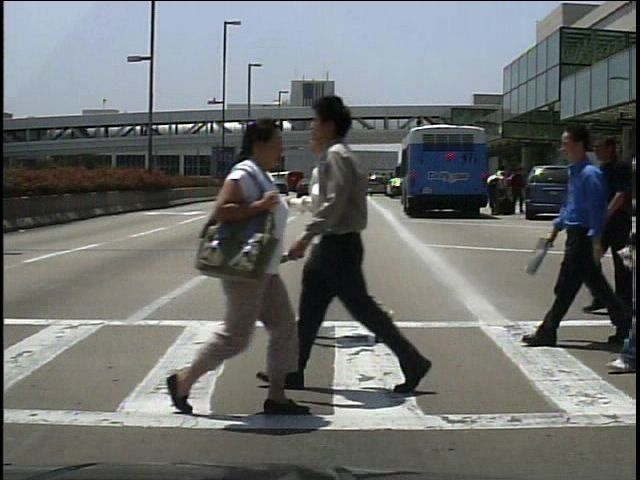person: (296, 91, 440, 405), (173, 115, 305, 419), (279, 118, 404, 354), (531, 114, 629, 348), (582, 168, 602, 218), (486, 162, 504, 214), (508, 166, 526, 216)
